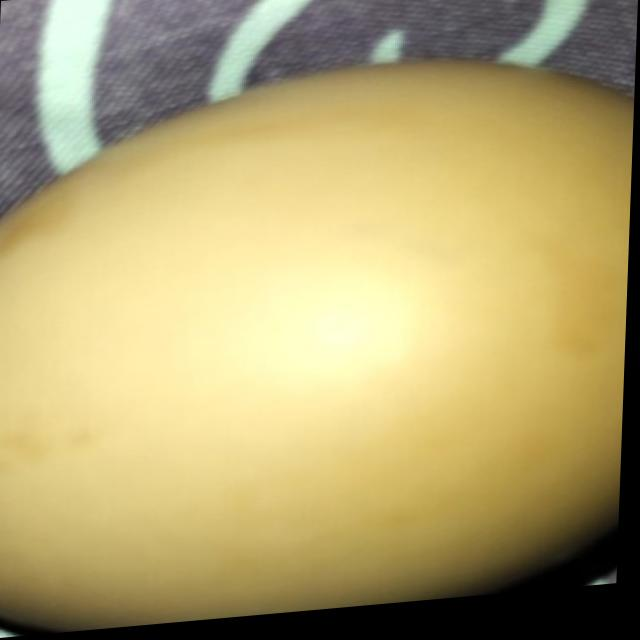fresh: (0, 47, 637, 640)
